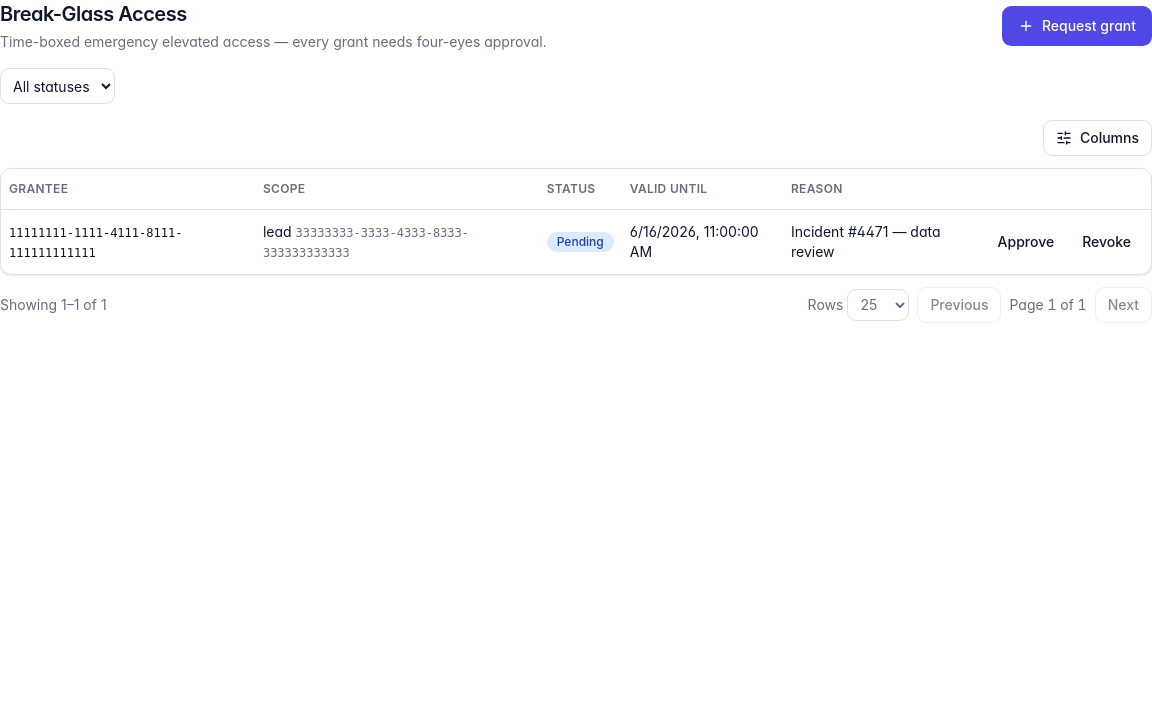
Scenario: BreakGlassPage › blocks the request submit and shows inline validation errors for empty required fields
Step 1. Click the button "Request grant" → (1077, 26), box [1002,6,1151,46]
(page scrolled)
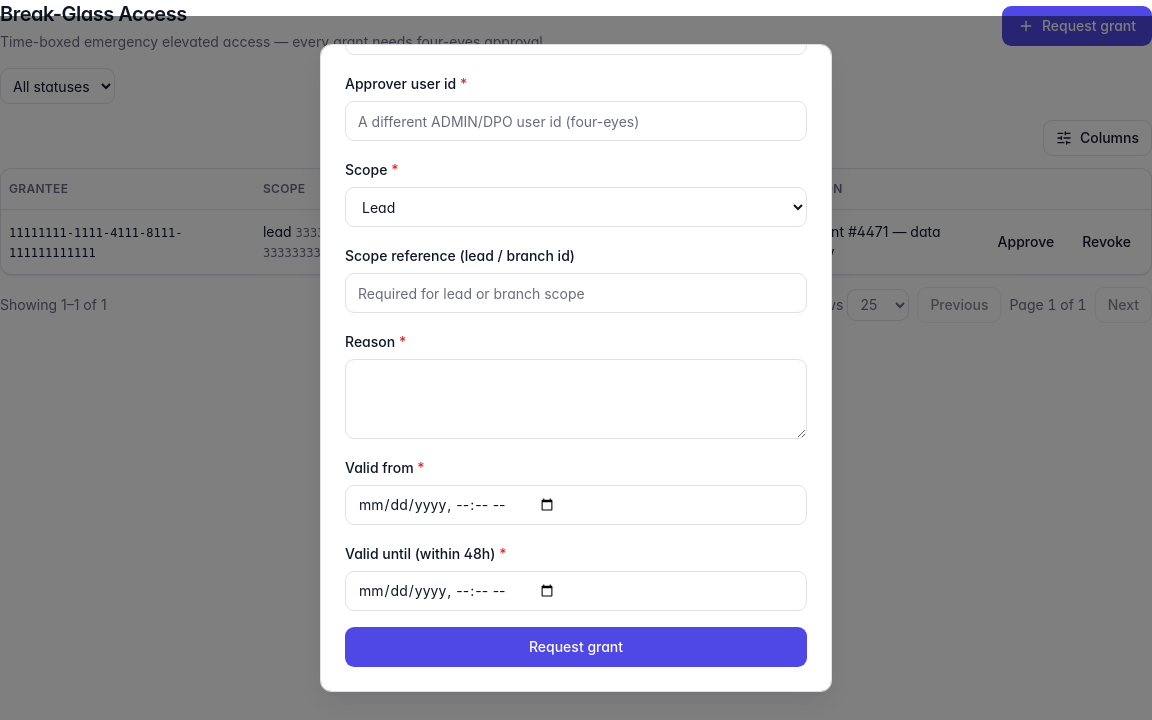
Step 2. Click the button "Request grant" → (576, 647), box [345,627,807,667]
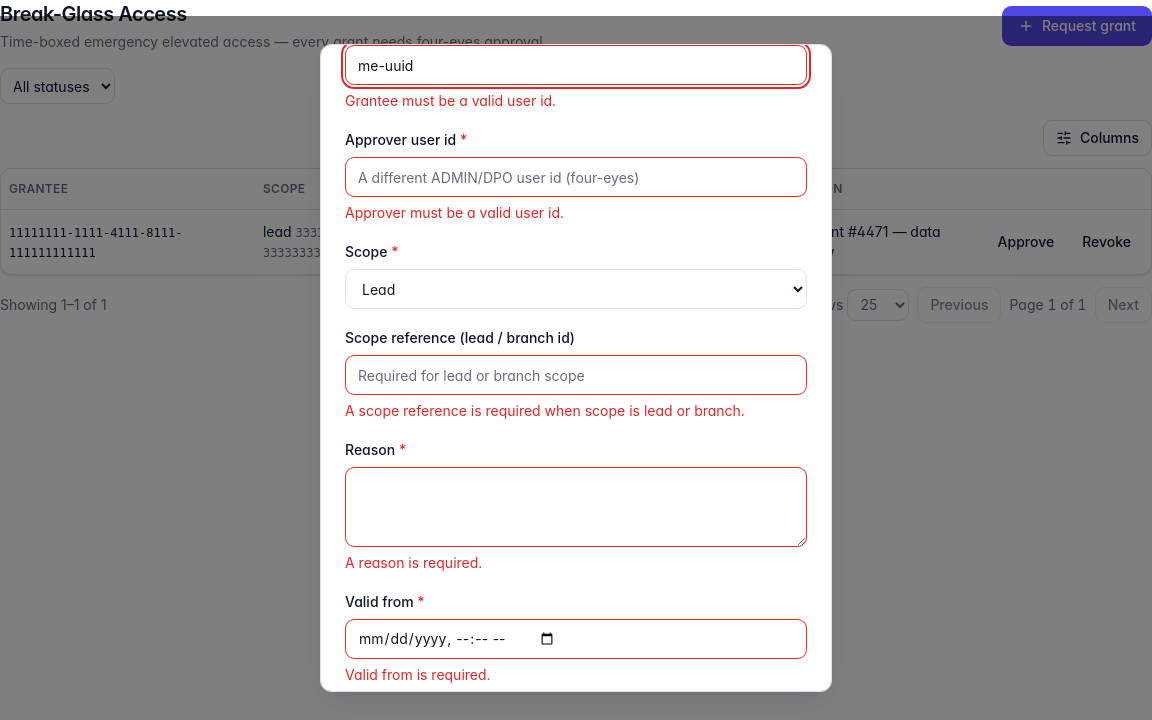
Expected: the message "Grantee must be a valid user id." is shown, [345,92,556,109]
